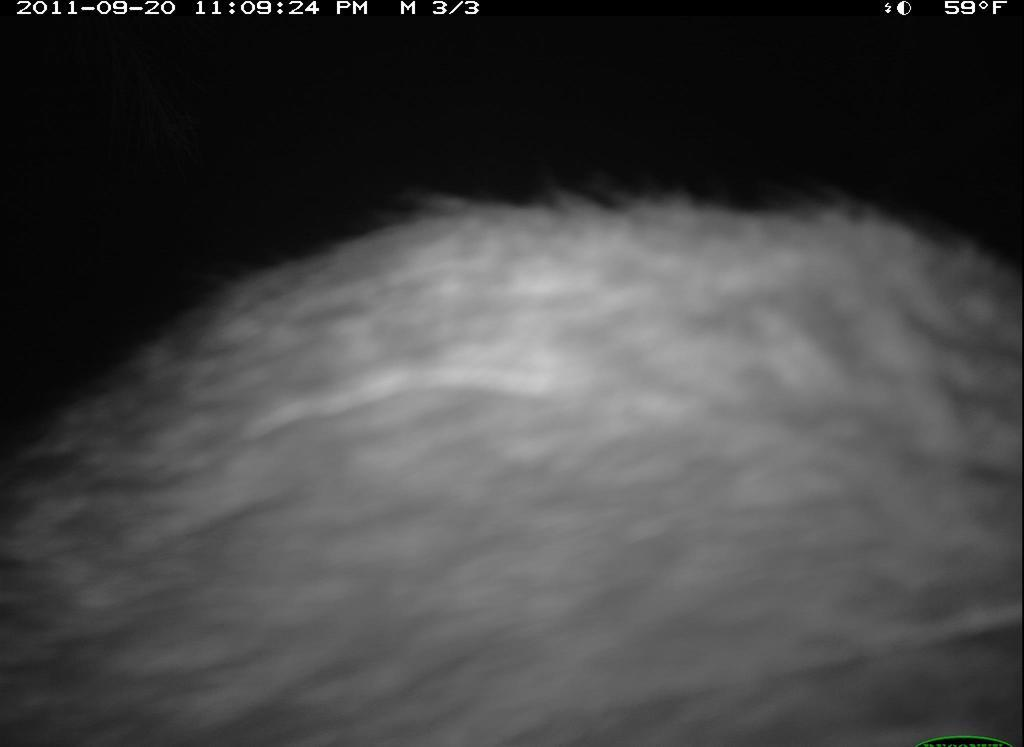raccoon: (3, 172, 1024, 747)
